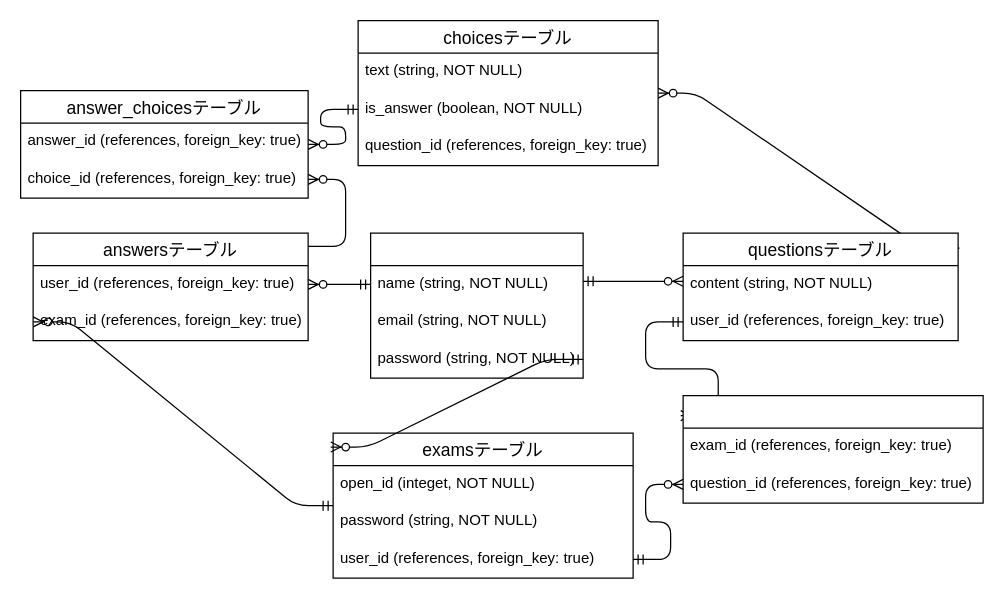
This 1004x599 diagram has some shape labels left out. The box of each missing label's shape, as (x1, y1, x2, y2) in pixels:
exam_questionsテーブル: (682, 394, 983, 503)
usersテーブル: (369, 232, 583, 378)
